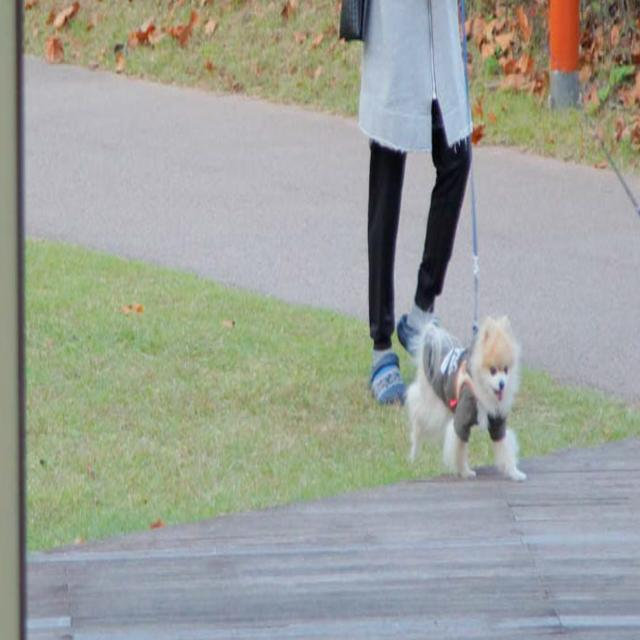Leashed_Dog: (370, 0, 527, 481)
